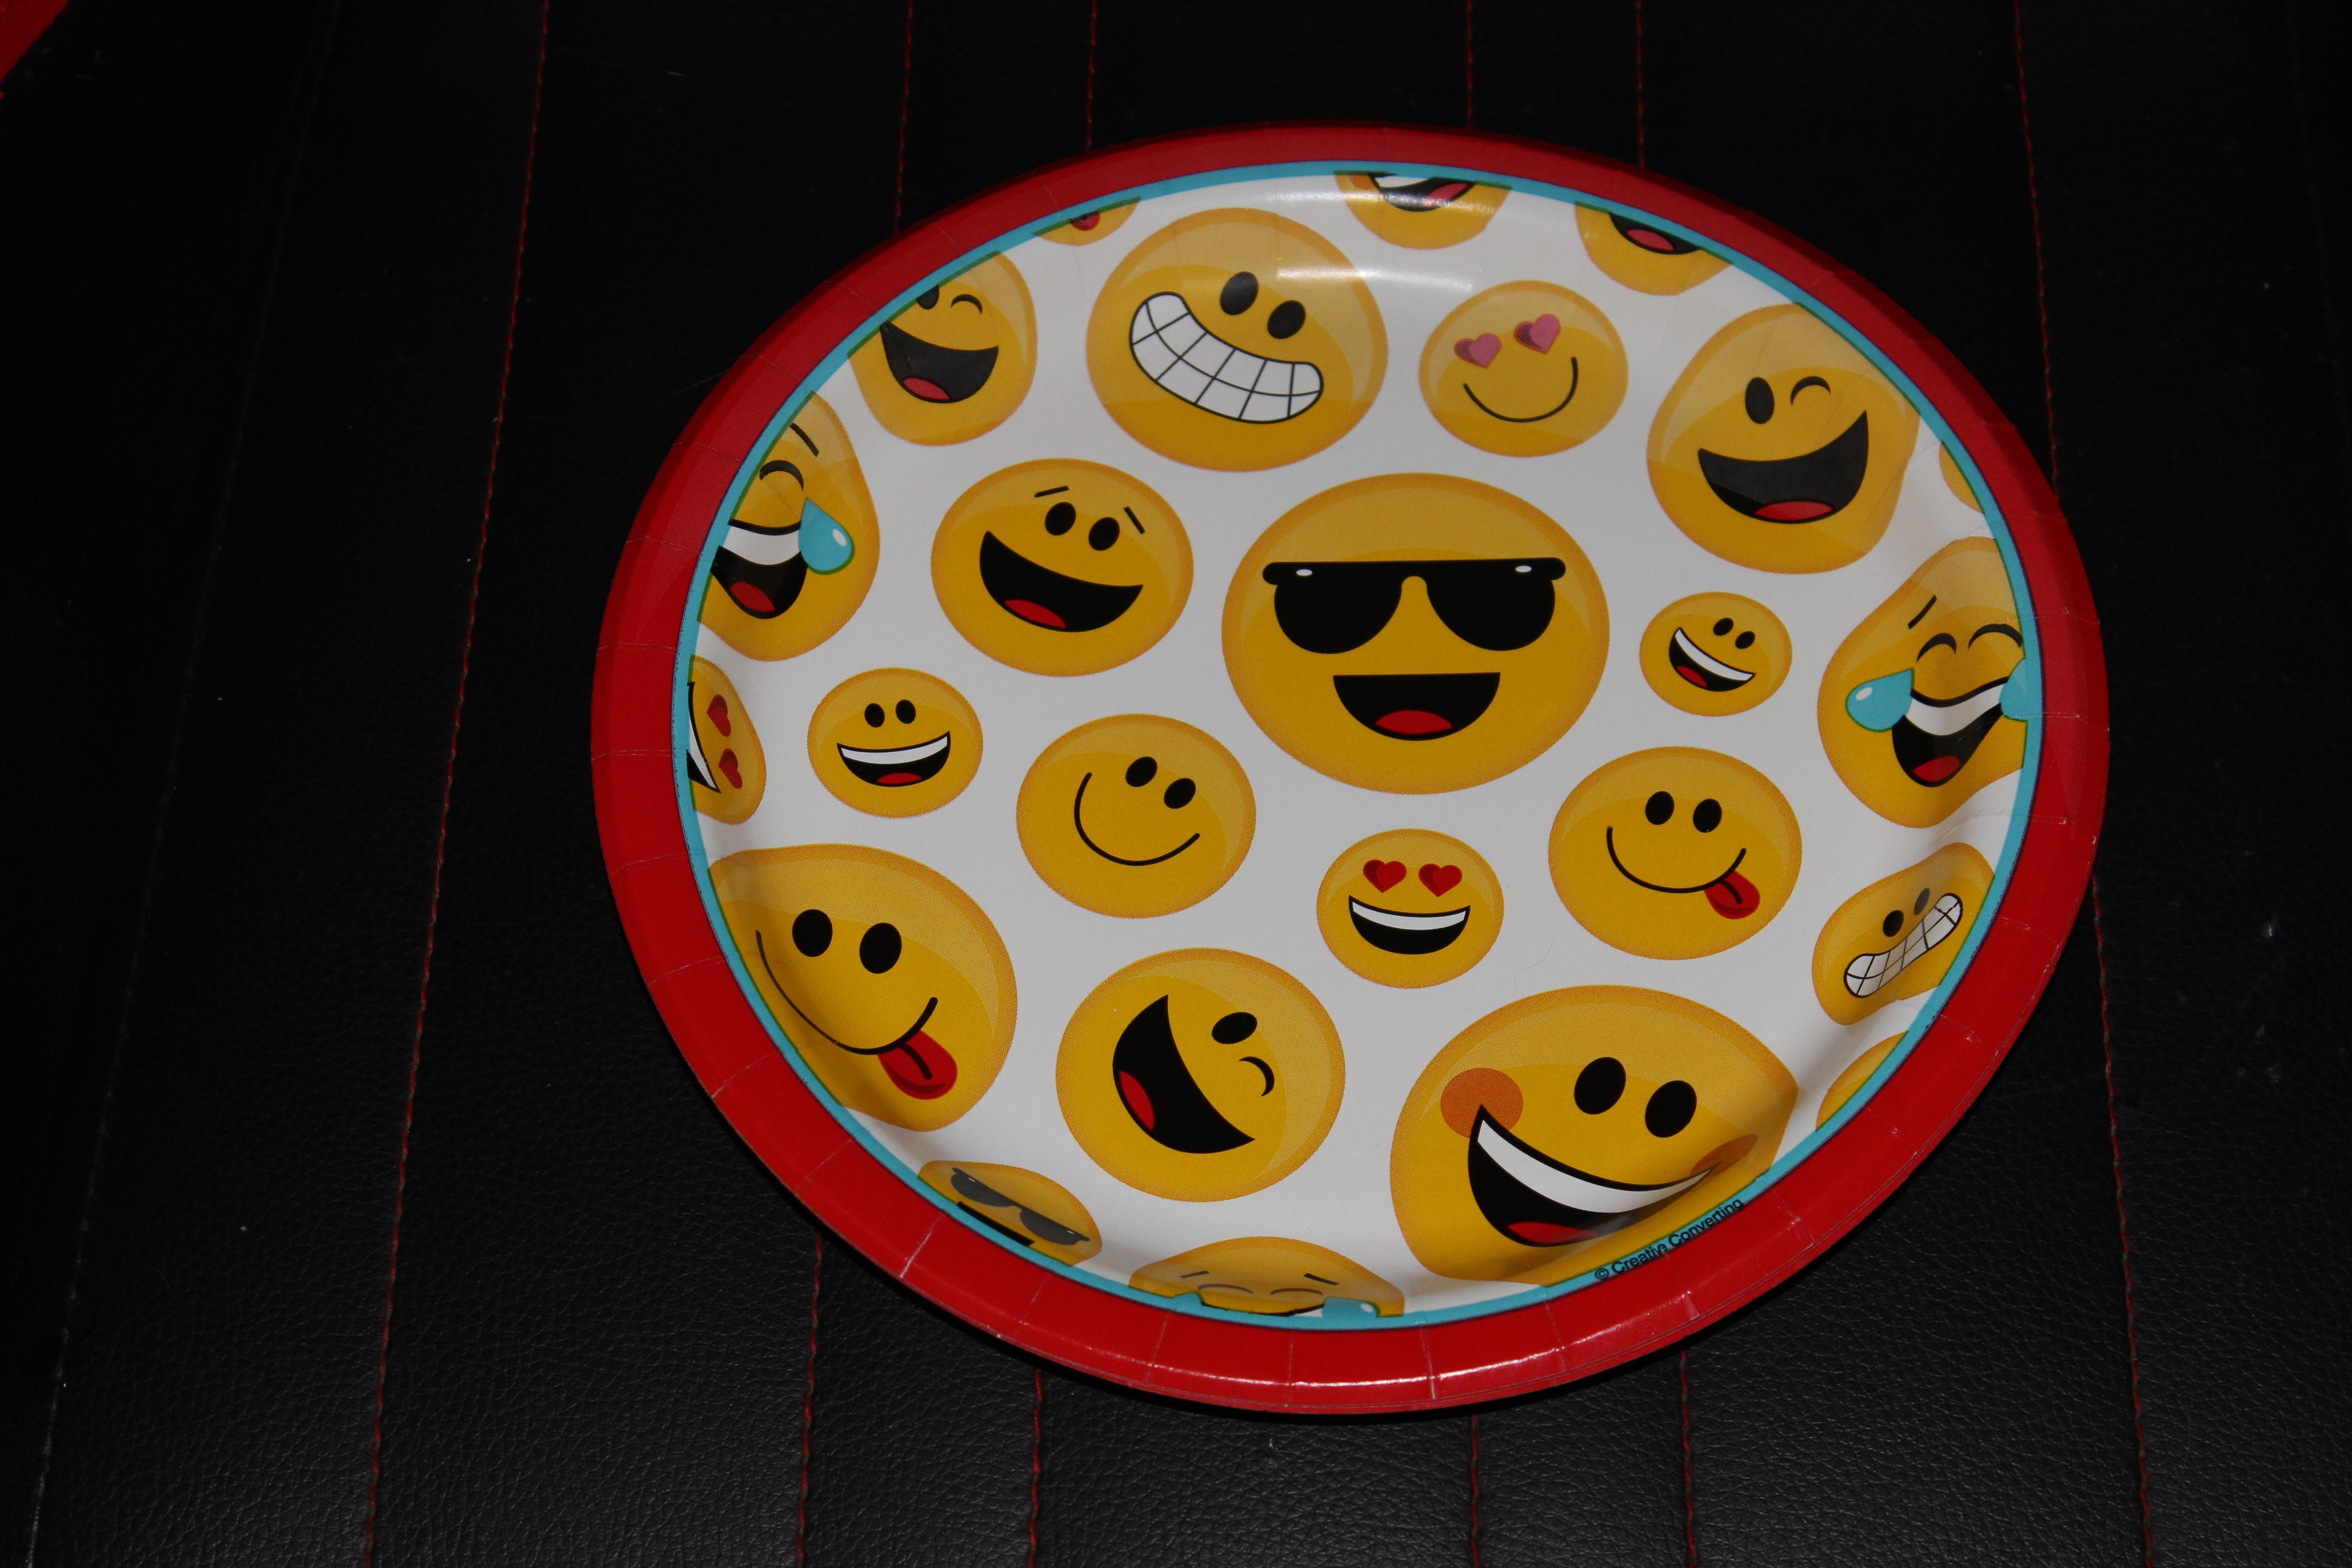paperPlate: (537, 91, 2163, 1472)
